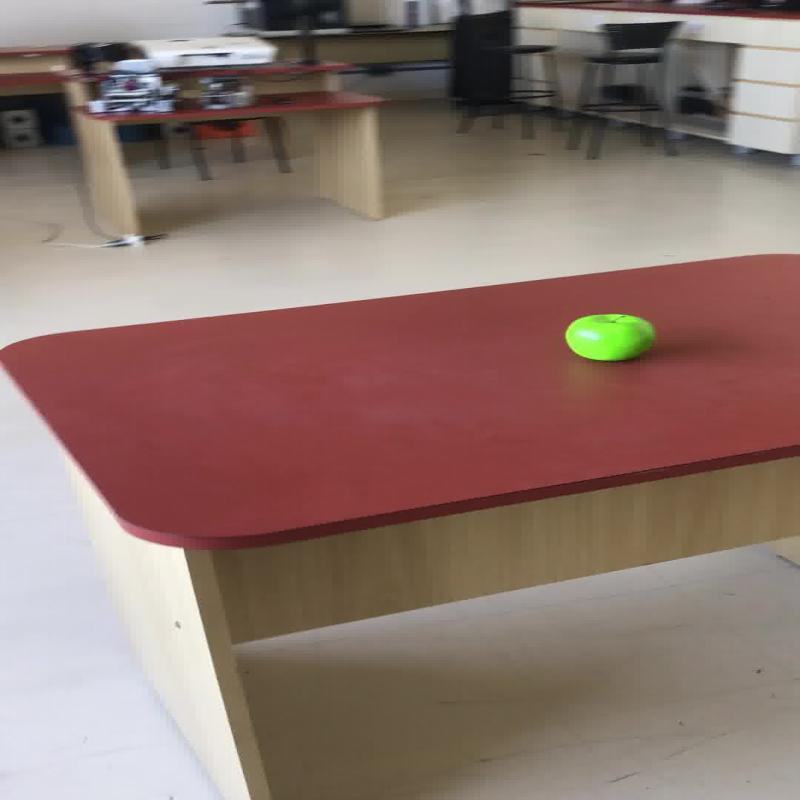apple: (562, 312, 654, 361)
